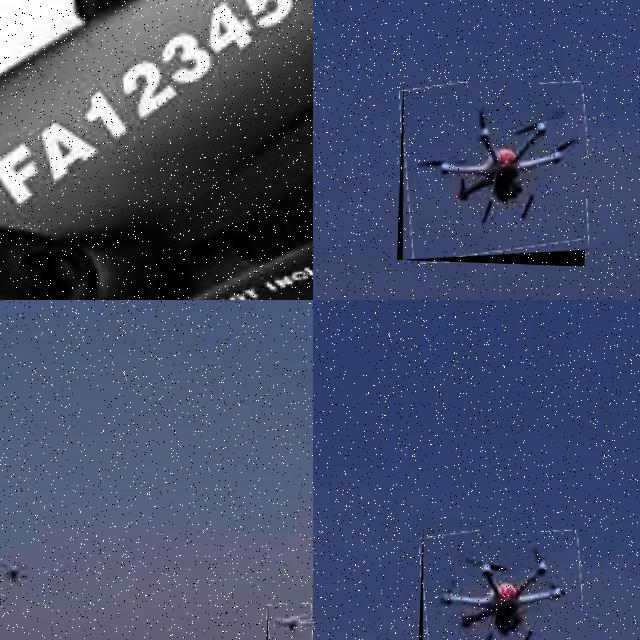0: (397, 78, 590, 266), (417, 527, 584, 640), (265, 602, 312, 640)
drone: (0, 0, 313, 300)
